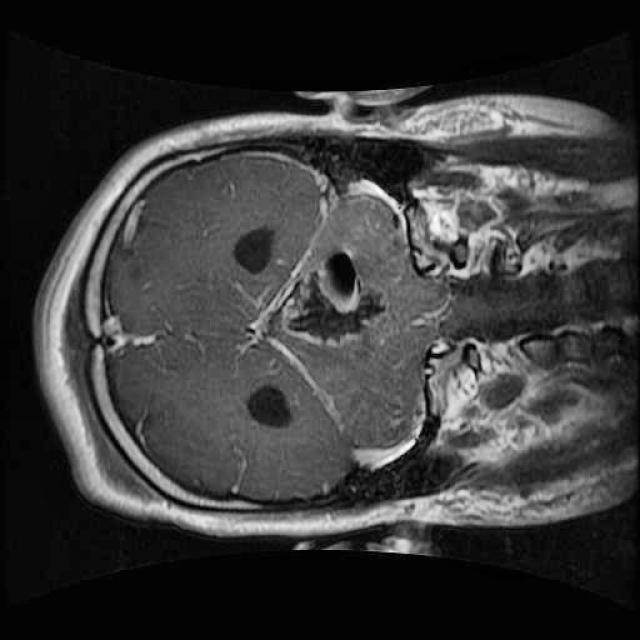Non-Tumor: (278, 229, 394, 366)
